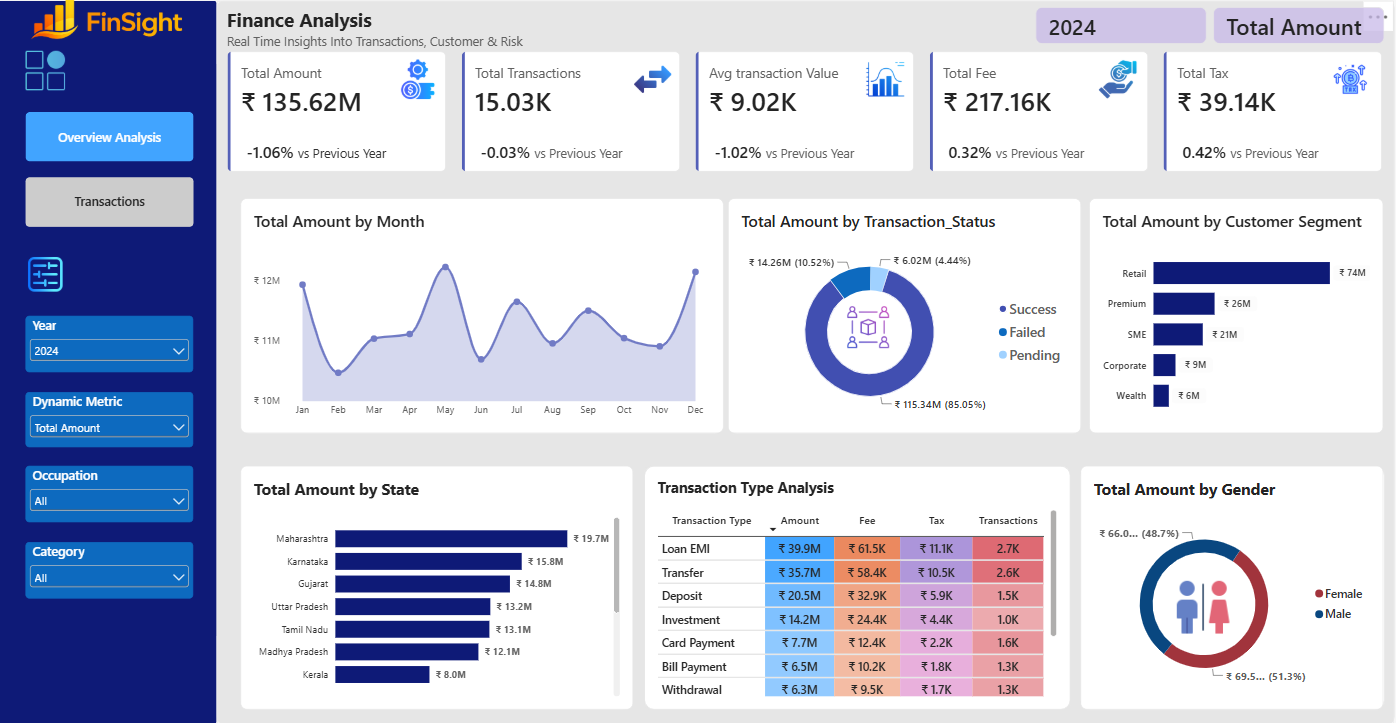

Layout of this report page (visuals, bound fields, positions):
{"tool":"powerbi","page":{"name":"Overview Analysis","canvas":[1800,950],"ordinal":0},"visuals":[{"type":"shape","box":[13.2,29.6,278.6,921],"z":0},{"type":"shape","box":[291,29.6,1500,921],"z":1},{"type":"image","box":[15,15,278.6,78.4],"z":2},{"type":"shape","title":"Finance Analysis","box":[304.2,37.8,384.3,55.6],"z":3},{"type":"cardVisual","fields":{"Data":["finance_transactions.Total Amount","finance_transactions.Total Transactions","finance_transactions.Avg transaction Value","finance_transactions.Total Fee","finance_transactions.Total Tax"]},"box":[304.2,93.7,1474.8,155],"z":4},{"type":"slicer","fields":{"Values":["Calender Table.Year"]},"box":[47.4,431.7,213.7,72.3],"z":5},{"type":"image","box":[522.8,105.2,50,50],"z":7},{"type":"image","box":[822.1,105.2,50,50],"z":8},{"type":"image","box":[1118,105.2,50,50],"z":9},{"type":"image","box":[1414,105.2,50,50],"z":10},{"type":"image","box":[1709.9,105.2,50,50],"z":11},{"type":"slicer","fields":{"Values":["Dynamic Metric.Dynamic Metric"]},"box":[47.4,528.2,213.7,70.7],"z":12},{"type":"shape","box":[322.3,281.1,615,300],"z":13},{"type":"areaChart","title":"Total Amount by Month","fields":{"Category":["Calender Table.Month"],"Y":["finance_transactions.Total Amount"]},"box":[322.1,281.3,614.8,299.2],"z":14},{"type":"cardVisual","fields":{"Data":["finance_transactions.Selected Year","finance_transactions.Selected Dynamic Measure"]},"box":[1333.4,37.8,445.6,47.7],"z":15},{"type":"shape","box":[942.1,281.1,450,300],"z":16},{"type":"donutChart","fields":{"Category":["finance_transactions.transaction_status"],"Y":["finance_transactions.Total Amount"]},"box":[941.9,281.3,449.7,299.2],"z":18},{"type":"shape","box":[322.1,623,500.4,310.7],"z":19},{"type":"shape","box":[835.6,623,542.9,310.7],"z":20},{"type":"shape","box":[1391.5,623,387.5,310.7],"z":21},{"type":"barChart","fields":{"Category":["customers.state"],"Y":["finance_transactions.Total Amount"]},"box":[322.1,623,500.4,310.7],"z":22},{"type":"shape","box":[1403,281.3,374.5,299.2],"z":23},{"type":"barChart","fields":{"Category":["customers.customer_segment"],"Y":["finance_transactions.Total Amount"]},"box":[1403,281.3,374.5,299.2],"z":24},{"type":"donutChart","fields":{"Category":["customers.gender"],"Y":["finance_transactions.Total Amount"]},"box":[1391.5,623,385.9,310.7],"z":25},{"type":"image","box":[1509.3,755.5,76.9,93.2],"z":26},{"type":"image","box":[1085.8,417,70.3,57.2],"z":27},{"type":"tableEx","title":"Transaction Type Analysis","fields":{"Values":["finance_transactions.transaction_type","finance_transactions.Total Amount","finance_transactions.Total Fee","finance_transactions.Total Tax","finance_transactions.Total Transactions"]},"box":[835.6,623,542.9,310.7],"z":28},{"type":"slicer","fields":{"Values":["customers.occupation"]},"box":[47.4,623,213.7,72.3],"z":29},{"type":"slicer","fields":{"Values":["finance_transactions.merchant_category"]},"box":[47.4,719.5,213.7,72.3],"z":30},{"type":"pageNavigator","box":[47.4,171.7,214.2,147.2],"z":31},{"type":"image","box":[47.4,93.2,50,50],"z":32},{"type":"image","box":[47.4,353.2,50,50],"z":33}]}

Visuals, with their boxes on the page's 1800x950 design canvas (x1, y1, x2, y2). These are canvas units, not pixel positions in the 1396x723 screenshot, which may show the page scaled, cropped or inside an application window:
shape: {"x1": 13, "y1": 30, "x2": 292, "y2": 951}
shape: {"x1": 291, "y1": 30, "x2": 1791, "y2": 951}
image: {"x1": 15, "y1": 15, "x2": 294, "y2": 93}
"Finance Analysis" shape: {"x1": 304, "y1": 38, "x2": 688, "y2": 93}
cardVisual - finance_transactions.Total Amount x finance_transactions.Total Transactions: {"x1": 304, "y1": 94, "x2": 1779, "y2": 249}
slicer - Calender Table.Year: {"x1": 47, "y1": 432, "x2": 261, "y2": 504}
image: {"x1": 523, "y1": 105, "x2": 573, "y2": 155}
image: {"x1": 822, "y1": 105, "x2": 872, "y2": 155}
image: {"x1": 1118, "y1": 105, "x2": 1168, "y2": 155}
image: {"x1": 1414, "y1": 105, "x2": 1464, "y2": 155}
image: {"x1": 1710, "y1": 105, "x2": 1760, "y2": 155}
slicer - Dynamic Metric.Dynamic Metric: {"x1": 47, "y1": 528, "x2": 261, "y2": 599}
shape: {"x1": 322, "y1": 281, "x2": 937, "y2": 581}
"Total Amount by Month" areaChart: {"x1": 322, "y1": 281, "x2": 937, "y2": 580}
cardVisual - finance_transactions.Selected Year x finance_transactions.Selected Dynamic Measure: {"x1": 1333, "y1": 38, "x2": 1779, "y2": 86}
shape: {"x1": 942, "y1": 281, "x2": 1392, "y2": 581}
donutChart - finance_transactions.transaction_status x finance_transactions.Total Amount: {"x1": 942, "y1": 281, "x2": 1392, "y2": 580}
shape: {"x1": 322, "y1": 623, "x2": 822, "y2": 934}
shape: {"x1": 836, "y1": 623, "x2": 1378, "y2": 934}
shape: {"x1": 1392, "y1": 623, "x2": 1779, "y2": 934}
barChart - customers.state x finance_transactions.Total Amount: {"x1": 322, "y1": 623, "x2": 822, "y2": 934}
shape: {"x1": 1403, "y1": 281, "x2": 1778, "y2": 580}
barChart - customers.customer_segment x finance_transactions.Total Amount: {"x1": 1403, "y1": 281, "x2": 1778, "y2": 580}
donutChart - customers.gender x finance_transactions.Total Amount: {"x1": 1392, "y1": 623, "x2": 1777, "y2": 934}
image: {"x1": 1509, "y1": 756, "x2": 1586, "y2": 849}
image: {"x1": 1086, "y1": 417, "x2": 1156, "y2": 474}
"Transaction Type Analysis" tableEx: {"x1": 836, "y1": 623, "x2": 1378, "y2": 934}
slicer - customers.occupation: {"x1": 47, "y1": 623, "x2": 261, "y2": 695}
slicer - finance_transactions.merchant_category: {"x1": 47, "y1": 720, "x2": 261, "y2": 792}
pageNavigator: {"x1": 47, "y1": 172, "x2": 262, "y2": 319}
image: {"x1": 47, "y1": 93, "x2": 97, "y2": 143}
image: {"x1": 47, "y1": 353, "x2": 97, "y2": 403}
